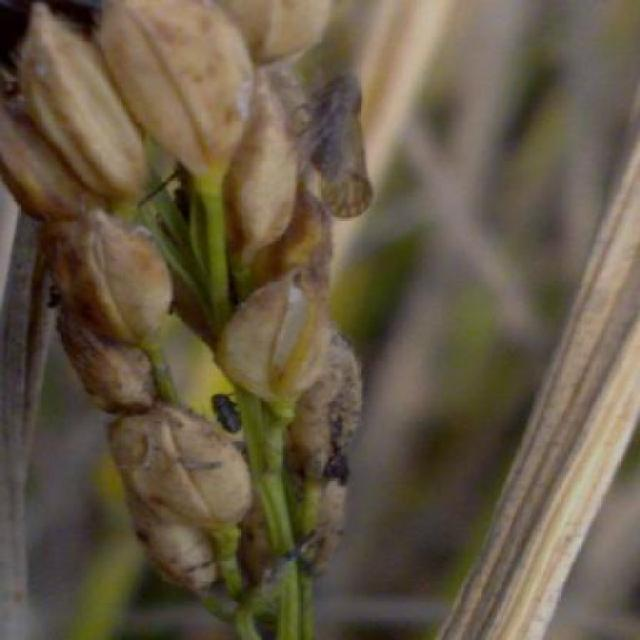brown-planthopper: (290, 69, 375, 223)
